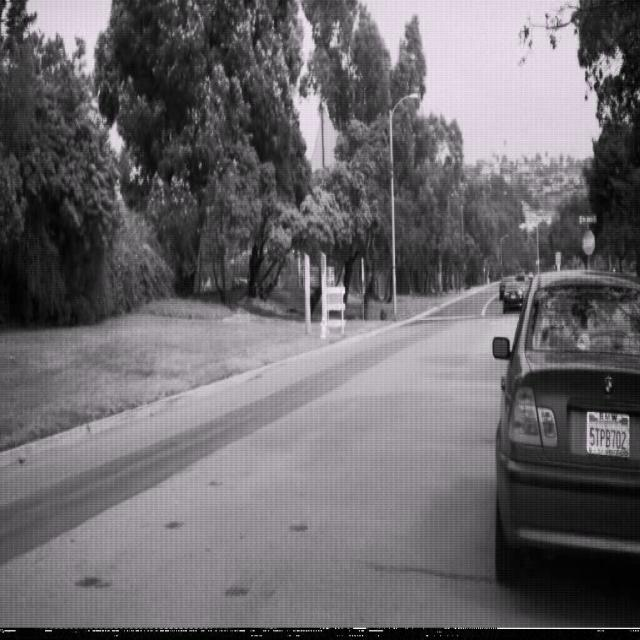stop_sign: (581, 228, 595, 256)
